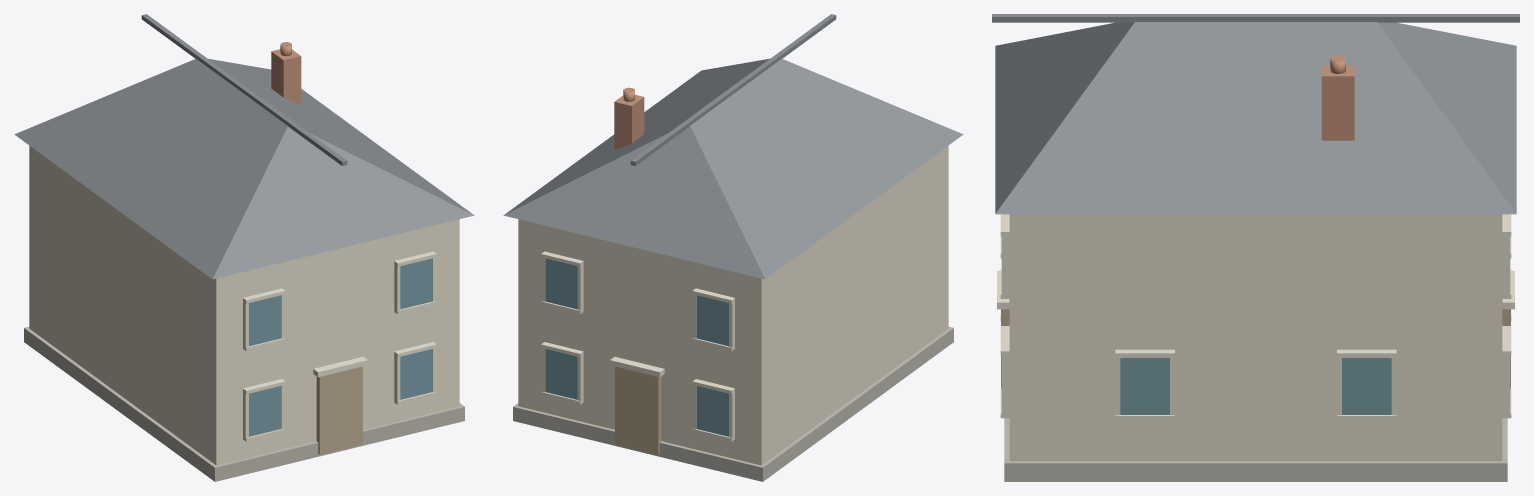
File: rhine-villa_lod1.glb
The picture shows the model from 3 angles, left to right: view 1: azimuth 30°, elevation 25°; view 2: azimuth 150°, elevation 25°; view 3: azimuth 270°, elevation 25°; orthographic projection. The views are drawn at different scales.
Visible parts, largest first — view 1: RF_Body, RF_HippedRoof, RF_Foundation, RF_Door.001, RF_Ridge, RF_Window.004, RF_Window.003, RF_Window.002, RF_Window.001, RF_Chimney, RF_DoorLintel.001; view 2: RF_Body, RF_HippedRoof, RF_Foundation, RF_Door, RF_Ridge, RF_Window.008, RF_Window.007, RF_Window.006, RF_Window.005, RF_Chimney, RF_DoorLintel; view 3: RF_Body, RF_HippedRoof, RF_Foundation, RF_Ridge, RF_Window.009, RF_Window, RF_Chimney, RF_WindowFrame.008, RF_WindowFrame.016, RF_WindowFrame.014, RF_WindowFrame.006.
Part boxes in pixels (x1,y1,x2,y2): RF_Body: (29, 145, 459, 465); RF_HippedRoof: (14, 58, 474, 279); RF_Foundation: (24, 326, 464, 481); RF_Door.001: (316, 366, 362, 454); RF_Ridge: (141, 14, 347, 165); RF_Window.004: (400, 258, 432, 309); RF_Window.003: (400, 349, 432, 399); RF_Window.002: (249, 295, 281, 346); RF_Window.001: (249, 386, 281, 436); RF_Chimney: (271, 49, 301, 104); RF_DoorLintel.001: (313, 356, 367, 377); RF_Body: (518, 145, 948, 465); RF_HippedRoof: (503, 58, 963, 279); RF_Foundation: (513, 326, 953, 481); RF_Door: (615, 366, 661, 454); RF_Ridge: (630, 14, 836, 165); RF_Window.008: (545, 258, 577, 309); RF_Window.007: (545, 349, 577, 399); RF_Window.006: (696, 295, 728, 346); RF_Window.005: (696, 386, 728, 436); RF_Chimney: (614, 94, 644, 150); RF_DoorLintel: (610, 356, 664, 377); RF_Body: (1009, 214, 1502, 461); RF_HippedRoof: (995, 22, 1516, 214); RF_Foundation: (1004, 418, 1507, 481); RF_Ridge: (992, 14, 1519, 22); RF_Window.009: (1120, 358, 1169, 414); RF_Window: (1342, 358, 1391, 414); RF_Chimney: (1321, 65, 1354, 140); RF_WindowFrame.008: (1001, 230, 1009, 298); RF_WindowFrame.016: (1502, 230, 1510, 298); RF_WindowFrame.014: (1502, 351, 1510, 418); RF_WindowFrame.006: (1001, 351, 1009, 418).
Size of the model in its own units: 9.7 by 10.47 by 12.85.
